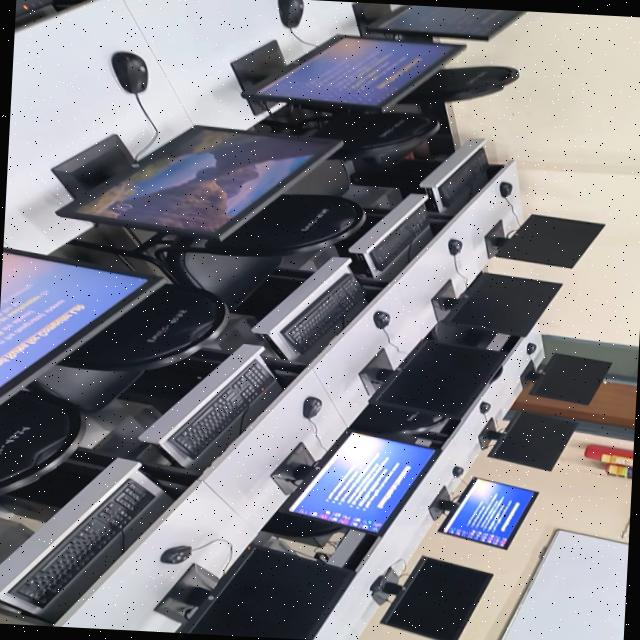Chair: (28, 283, 228, 412), (155, 194, 365, 307), (288, 111, 440, 195), (0, 391, 86, 494), (400, 65, 518, 103), (263, 508, 349, 546), (350, 403, 449, 435), (428, 317, 518, 350)
Cpu: (0, 450, 113, 520), (119, 359, 216, 413), (231, 273, 310, 320)
Fire Extinguisher: (585, 444, 634, 466), (605, 462, 633, 478)
Keyboard: (9, 479, 156, 608), (168, 359, 274, 461), (282, 273, 365, 353), (369, 209, 428, 269), (438, 147, 488, 207)
Monitor: (53, 125, 341, 239), (0, 250, 162, 404), (243, 35, 465, 111), (183, 546, 352, 640), (288, 432, 436, 532), (371, 339, 508, 418), (381, 556, 493, 640), (442, 272, 562, 335), (439, 476, 539, 548), (363, 4, 529, 41), (496, 214, 605, 267), (489, 411, 577, 470), (523, 352, 612, 404)
Mouse: (112, 51, 148, 93), (279, 0, 304, 27), (162, 545, 193, 563), (303, 396, 322, 418), (374, 310, 391, 328), (449, 238, 463, 255), (500, 181, 513, 196), (453, 465, 464, 477), (480, 401, 491, 413), (527, 342, 538, 354), (626, 448, 634, 455)
